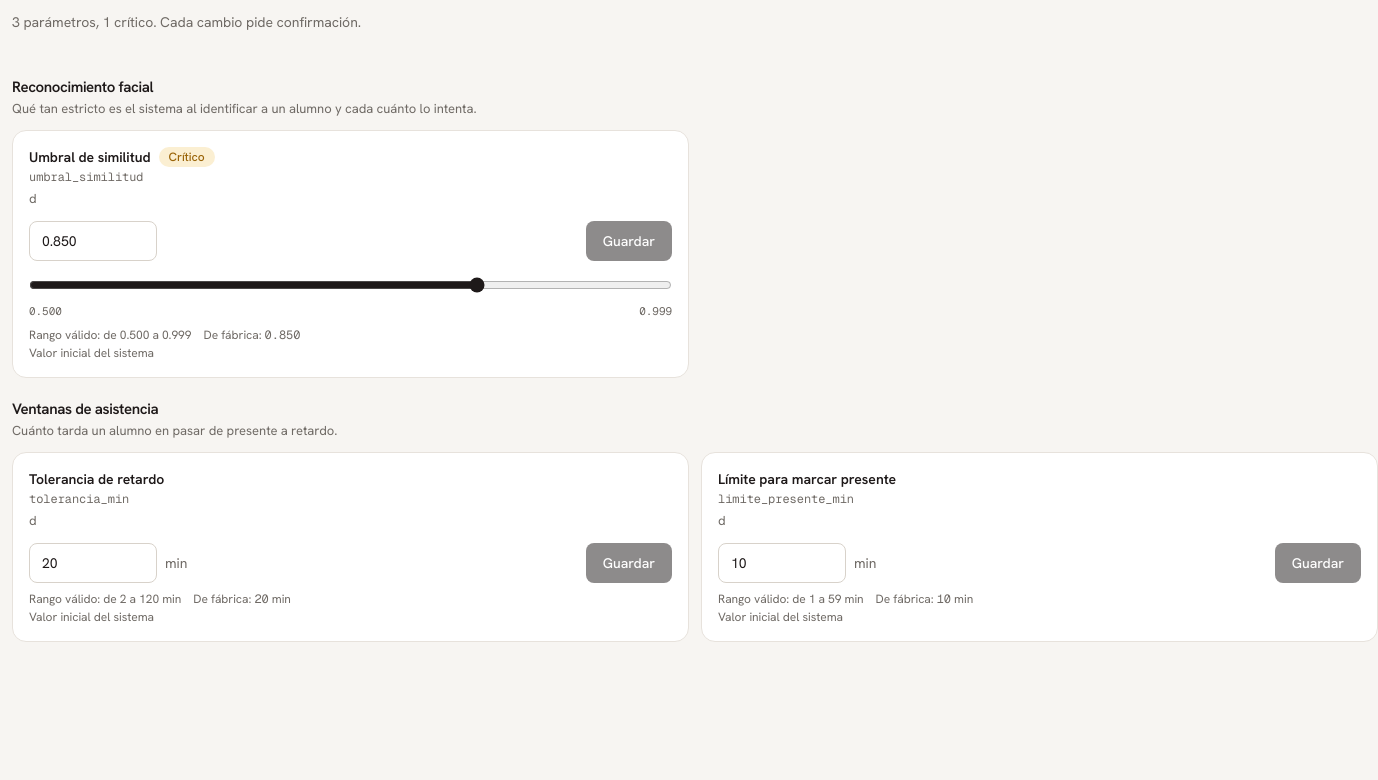
it: ParametrosEditor › rechaza valores fuera de rango y deshabilita Guardar
Replace the text in the field labelled "Umbral de similitud" with "1.5": {"x": 93, "y": 240} [29, 220, 157, 260]
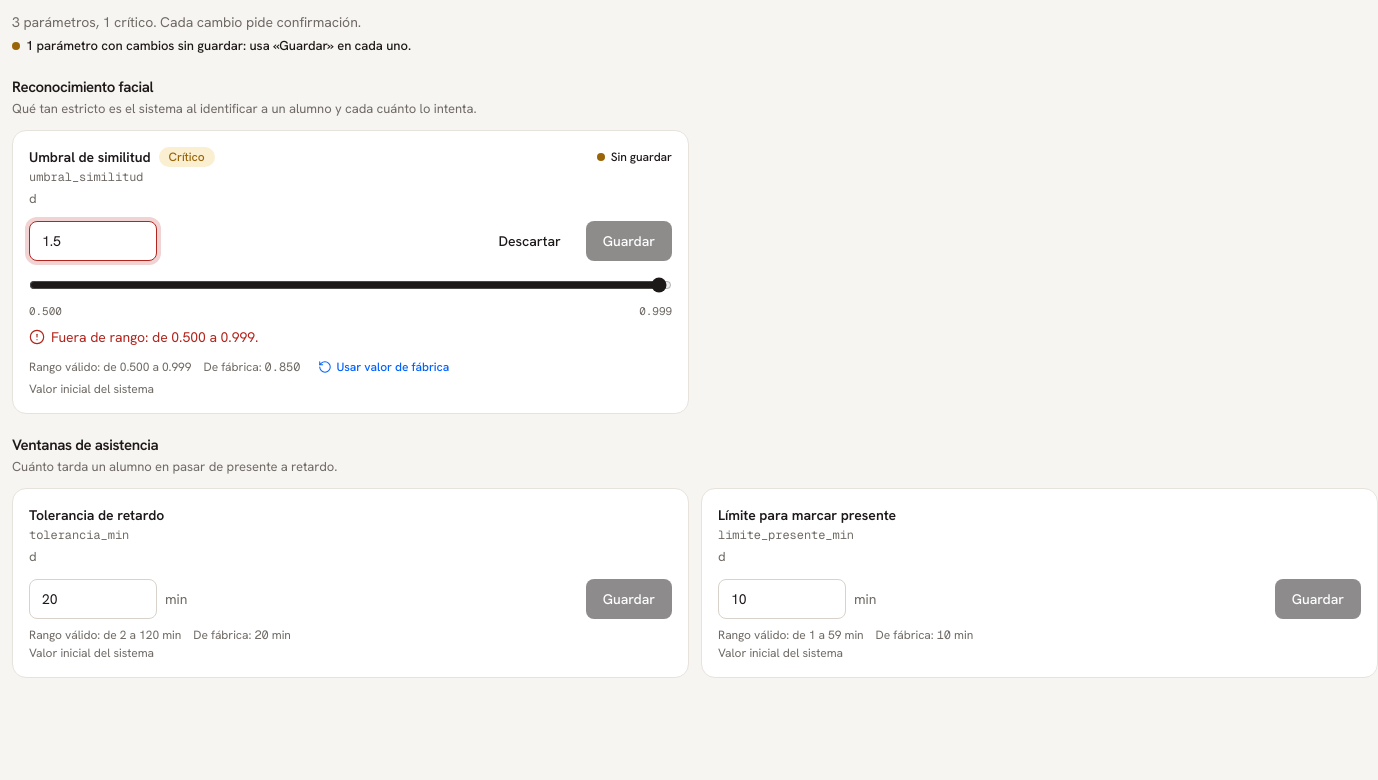
Expected: the 1st button "Guardar" is disabled, [586, 220, 672, 260]
Result: the text "Fuera de rango: de 0.500 a 0.999." is shown at [29, 328, 258, 346]
